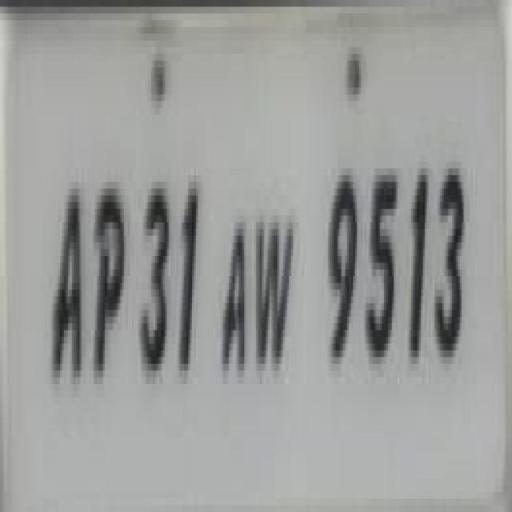number plate: (15, 20, 512, 498)
